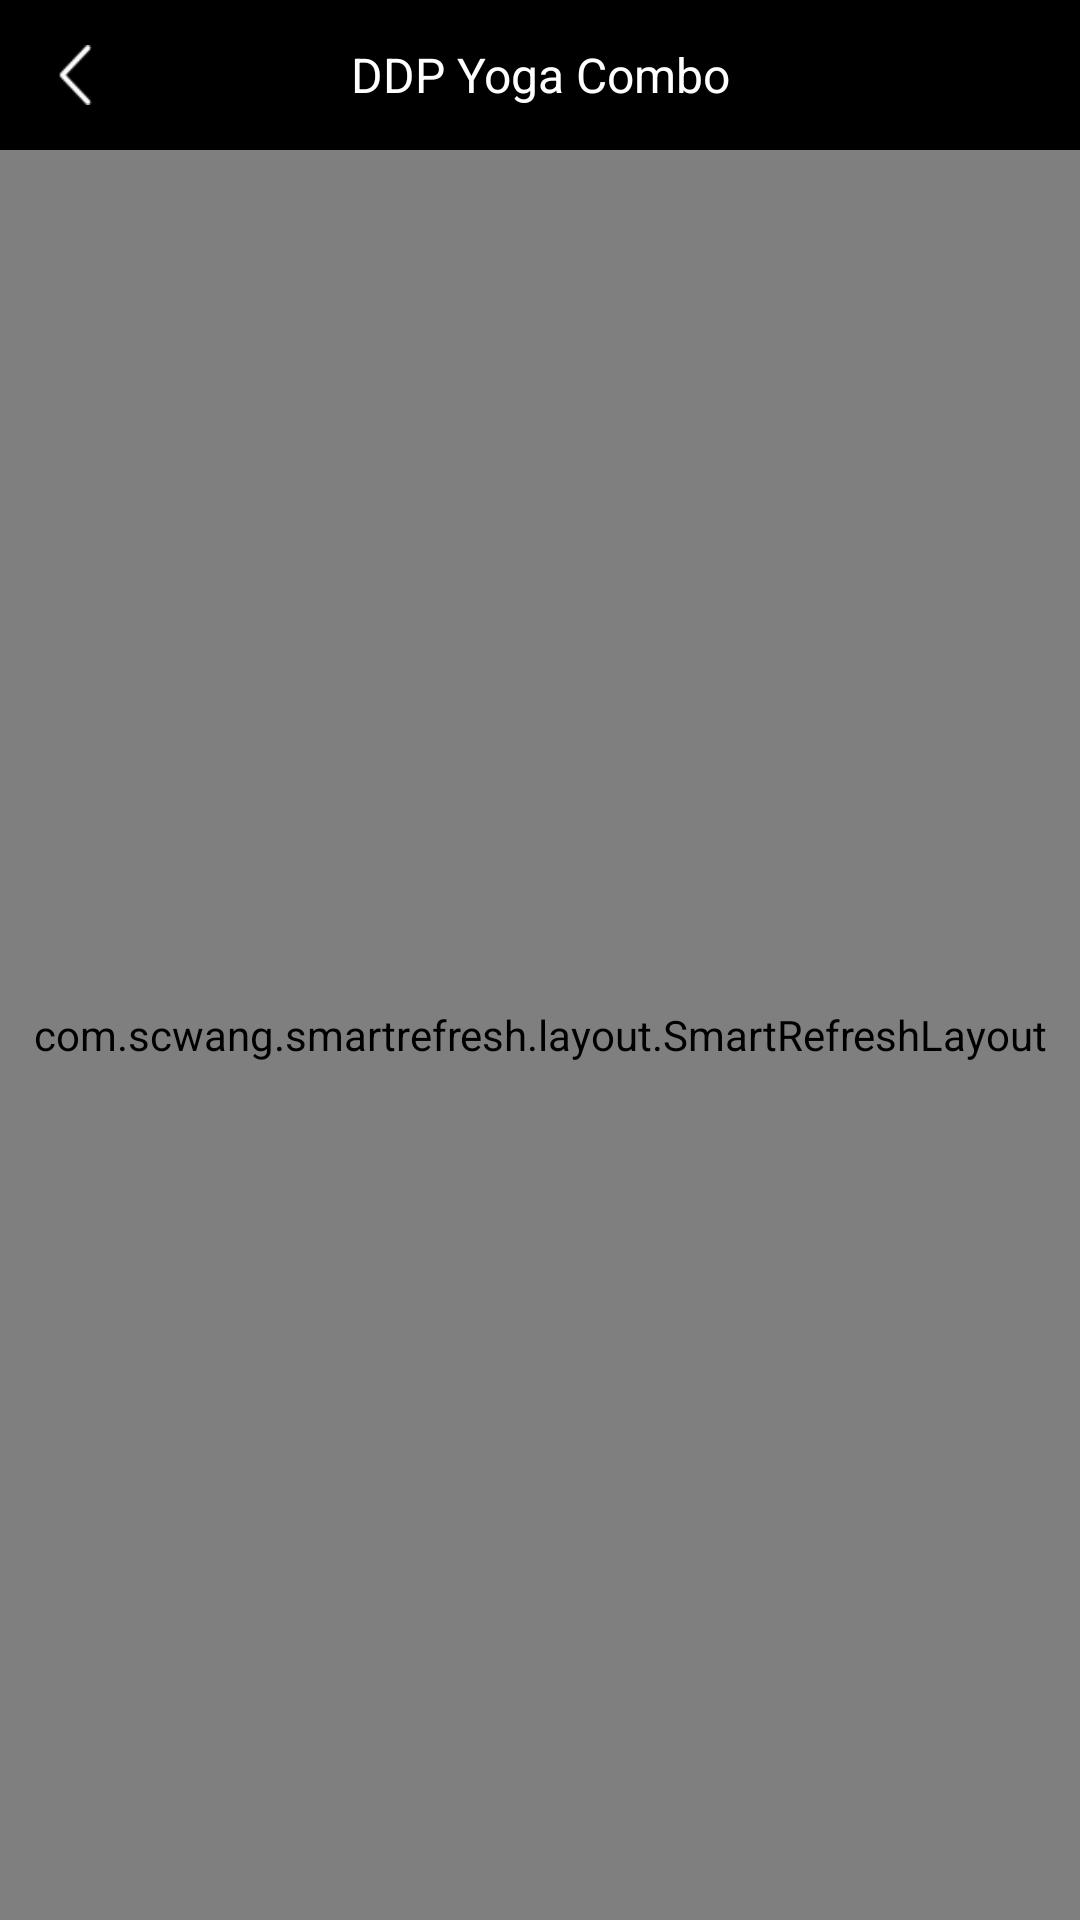

Named icons in this screenshot (1080px x 1920px) and their bounding boxes, (x1, y1, x2, y2):
back: (59, 45, 92, 105)
